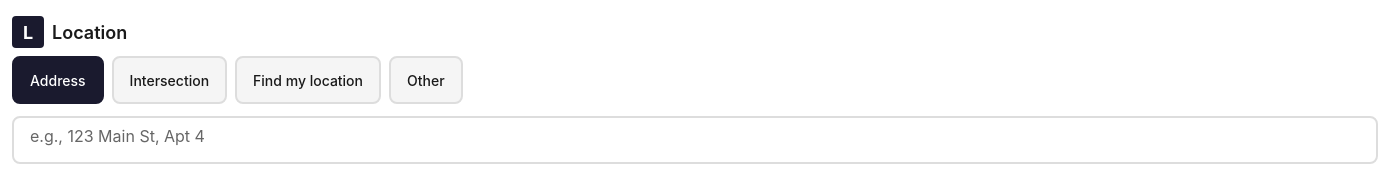
Test: LocationSection › Mode Selection › switches to other mode when clicked
The image size is (1390, 193).
Step 1. Click the button "Other" → (426, 80), box left=389, top=56, right=463, bottom=104
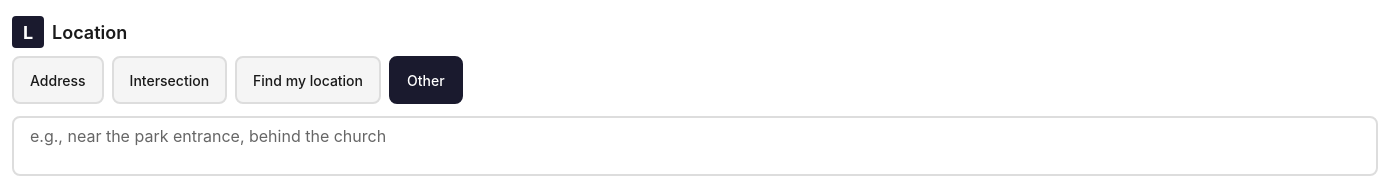
Check: the text box with placeholder "e.g., near the park entrance, behind the church" is shown, box left=12, top=116, right=1378, bottom=176
